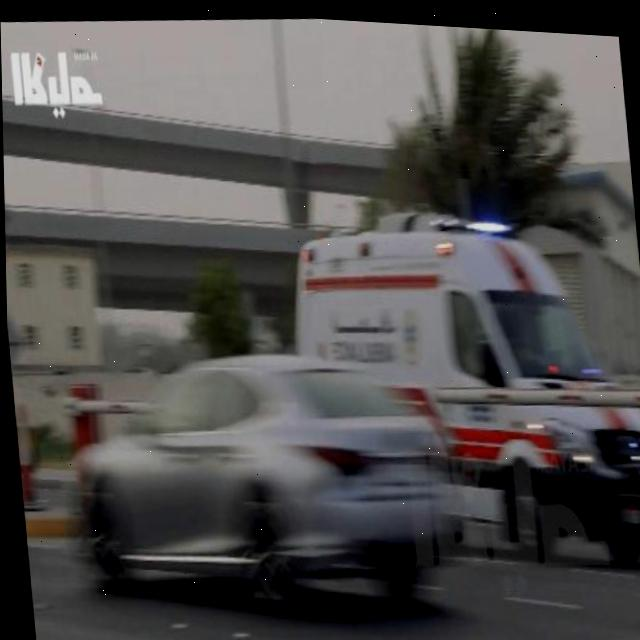emergency: (278, 183, 640, 591)
